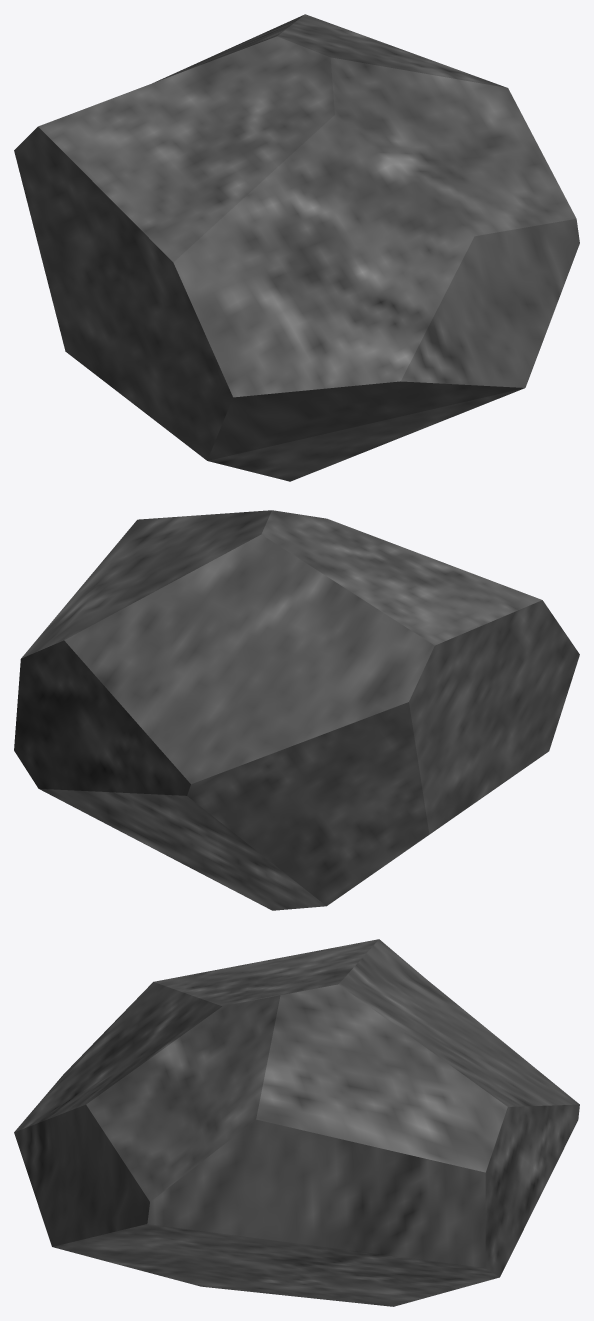
Rendered from rock_med_04.glb.
The picture shows the model from 3 angles, top to bottom: view 1: azimuth 30°, elevation 25°; view 2: azimuth 150°, elevation 25°; view 3: azimuth 270°, elevation 25°; orthographic projection. The views are drawn at different scales.
Visible parts, largest first — view 1: mediun rock 3; view 2: mediun rock 3; view 3: mediun rock 3.
Part boxes in pixels (left/top/right/bottom): mediun rock 3: left=14, top=14, right=579, bottom=481; mediun rock 3: left=14, top=510, right=579, bottom=910; mediun rock 3: left=14, top=939, right=579, bottom=1306.
Bounding box in the file's own units: 1.35 × 1.21 × 1.82.
Materials: 1 (1 with a texture image).
